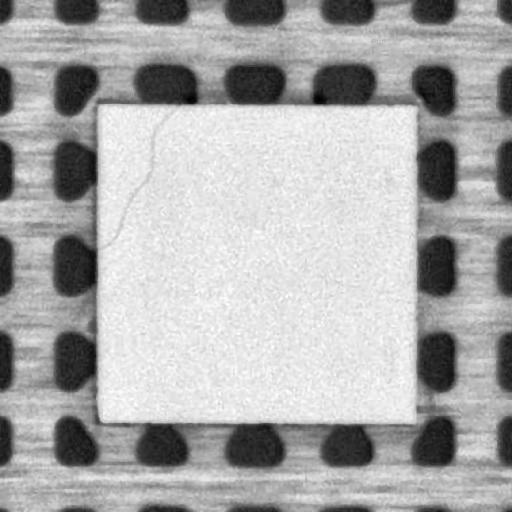DIE_CRACK: (99, 105, 177, 246)
